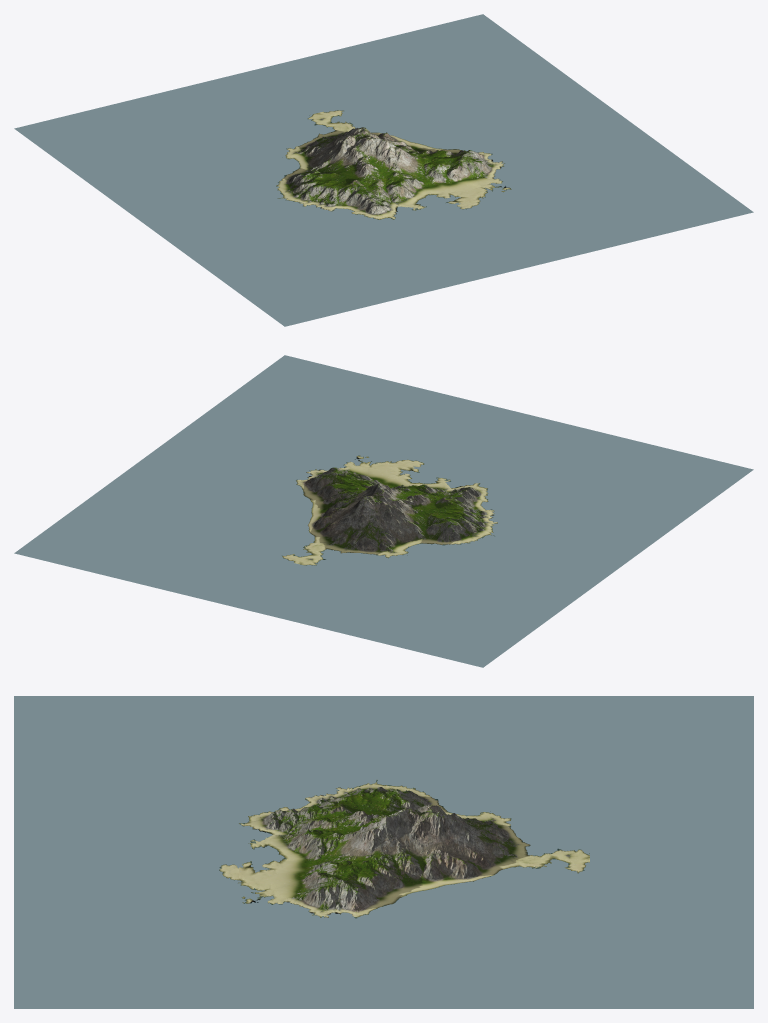
The picture shows the model from 3 angles, top to bottom: view 1: azimuth 30°, elevation 25°; view 2: azimuth 150°, elevation 25°; view 3: azimuth 270°, elevation 25°; orthographic projection. The views are drawn at different scales.
Visible parts, largest first — view 1: node_9c2fa08c_767a_423b_905c_6161d28671ce_mesh0, node_e79e3c44_8973_4f84_ad95_6cb6ef2cd349_mesh0; view 2: node_9c2fa08c_767a_423b_905c_6161d28671ce_mesh0, node_e79e3c44_8973_4f84_ad95_6cb6ef2cd349_mesh0; view 3: node_9c2fa08c_767a_423b_905c_6161d28671ce_mesh0, node_e79e3c44_8973_4f84_ad95_6cb6ef2cd349_mesh0.
Boxes of the visible parts, box(x1,y1,x2,y2) form: node_9c2fa08c_767a_423b_905c_6161d28671ce_mesh0: box(14, 14, 753, 326); node_e79e3c44_8973_4f84_ad95_6cb6ef2cd349_mesh0: box(276, 110, 511, 219); node_9c2fa08c_767a_423b_905c_6161d28671ce_mesh0: box(14, 355, 753, 667); node_e79e3c44_8973_4f84_ad95_6cb6ef2cd349_mesh0: box(282, 455, 497, 565); node_9c2fa08c_767a_423b_905c_6161d28671ce_mesh0: box(14, 696, 753, 1008); node_e79e3c44_8973_4f84_ad95_6cb6ef2cd349_mesh0: box(219, 780, 589, 917).
Size of the model in its own units: 200 by 12.07 by 200.
Materials: 2 (2 with a texture image).
